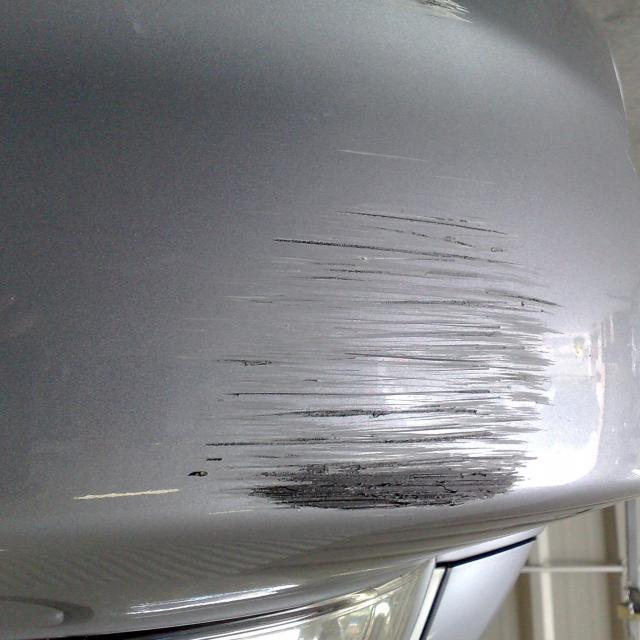scratch: (158, 195, 588, 547)
